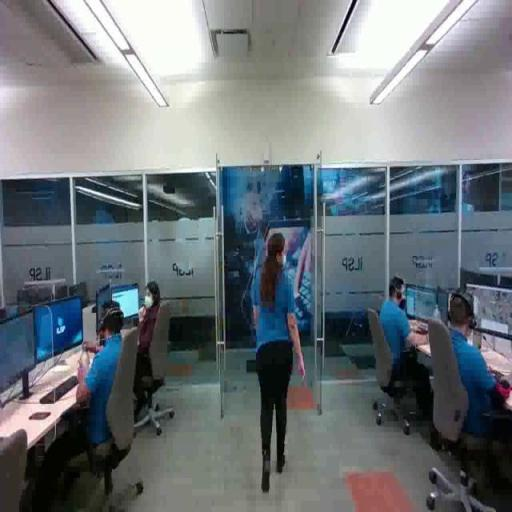person: (249, 229, 313, 500), (69, 305, 151, 512), (433, 288, 512, 492), (374, 270, 438, 423), (120, 281, 178, 417)
